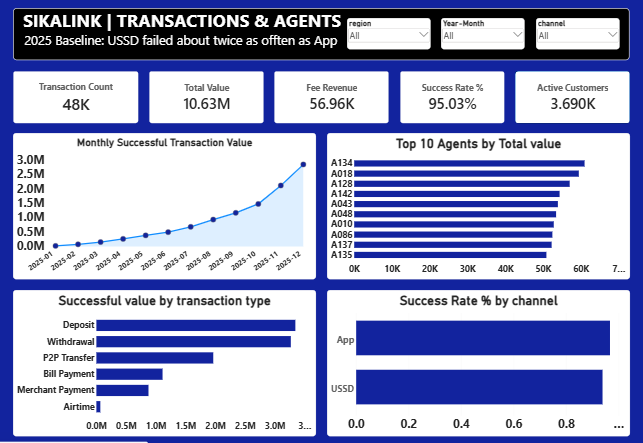

Layout of this report page (visuals, bound fields, positions):
{"tool":"powerbi","page":{"name":"TRANSACTION AND AGENTS","canvas":[3840,2160],"ordinal":0},"visuals":[{"type":"textbox","box":[150,140,300,300],"z":0},{"type":"group","id":"g1","title":"Group 1","box":[768,48,2832,1968],"z":1000},{"type":"cardVisual","fields":{"Data":["SikaLink_Measures.Transaction Count"]},"box":[768,336,576,240],"z":3000,"group":"g1"},{"type":"cardVisual","fields":{"Data":["SikaLink_Measures.Total Value"]},"box":[1392,336,528,240],"z":4000,"group":"g1"},{"type":"cardVisual","fields":{"Data":["SikaLink_Measures.Fee Revenue"]},"box":[1968,336,528,240],"z":5000,"group":"g1"},{"type":"cardVisual","fields":{"Data":["SikaLink_Measures.Success Rate %"]},"box":[2544,336,480,240],"z":6000,"group":"g1"},{"type":"cardVisual","fields":{"Data":["SikaLink_Measures.Active Customers"]},"box":[3072,336,528,240],"z":7000,"group":"g1"},{"type":"lineChart","title":"Monthly Successful Transaction Value","fields":{"Category":["Calendar.Year-Month"],"Y":["SikaLink_Measures.Total Value"]},"box":[768,624,1392,672],"z":8000,"group":"g1"},{"type":"barChart","title":"Successful value by transaction type","fields":{"Category":["transactions.txn_type"],"Y":["SikaLink_Measures.Total Value"]},"box":[768,1344,1392,672],"z":9000,"group":"g1"},{"type":"barChart","fields":{"Category":["transactions.channel"],"Y":["SikaLink_Measures.Success Rate %"]},"box":[2208,1344,1392,672],"z":10000,"group":"g1"},{"type":"clusteredBarChart","title":"Top 10 Agents by Total value","fields":{"Category":["agents.agent_id"],"Y":["SikaLink_Measures.Total Value"]},"box":[2208,624,1392,672],"z":12000,"group":"g1"},{"type":"textbox","box":[768,48,2832,240],"z":14000,"group":"g1"},{"type":"slicer","fields":{"Values":["customers.region"]},"box":[2304,96,384,144],"z":14500,"group":"g1"},{"type":"slicer","fields":{"Values":["Calendar.Year-Month"]},"box":[2736,96,384,144],"z":15000,"group":"g1"},{"type":"slicer","fields":{"Values":["transactions.channel"]},"box":[3168,96,384,144],"z":15500,"group":"g1"}]}

Visuals, with their boxes on the page's 3840x2160 design canvas (x1, y1, x2, y2). These are canvas units, not pixel positions in the 643x443 screenshot, which may show the page scaled, cropped or inside an application window:
textbox: {"left": 150, "top": 140, "right": 450, "bottom": 440}
"Group 1" group: {"left": 768, "top": 48, "right": 3600, "bottom": 2016}
cardVisual - SikaLink_Measures.Transaction Count: {"left": 768, "top": 336, "right": 1344, "bottom": 576}
cardVisual - SikaLink_Measures.Total Value: {"left": 1392, "top": 336, "right": 1920, "bottom": 576}
cardVisual - SikaLink_Measures.Fee Revenue: {"left": 1968, "top": 336, "right": 2496, "bottom": 576}
cardVisual - SikaLink_Measures.Success Rate %: {"left": 2544, "top": 336, "right": 3024, "bottom": 576}
cardVisual - SikaLink_Measures.Active Customers: {"left": 3072, "top": 336, "right": 3600, "bottom": 576}
"Monthly Successful Transaction Value" lineChart: {"left": 768, "top": 624, "right": 2160, "bottom": 1296}
"Successful value by transaction type" barChart: {"left": 768, "top": 1344, "right": 2160, "bottom": 2016}
barChart - transactions.channel x SikaLink_Measures.Success Rate %: {"left": 2208, "top": 1344, "right": 3600, "bottom": 2016}
"Top 10 Agents by Total value" clusteredBarChart: {"left": 2208, "top": 624, "right": 3600, "bottom": 1296}
textbox: {"left": 768, "top": 48, "right": 3600, "bottom": 288}
slicer - customers.region: {"left": 2304, "top": 96, "right": 2688, "bottom": 240}
slicer - Calendar.Year-Month: {"left": 2736, "top": 96, "right": 3120, "bottom": 240}
slicer - transactions.channel: {"left": 3168, "top": 96, "right": 3552, "bottom": 240}
